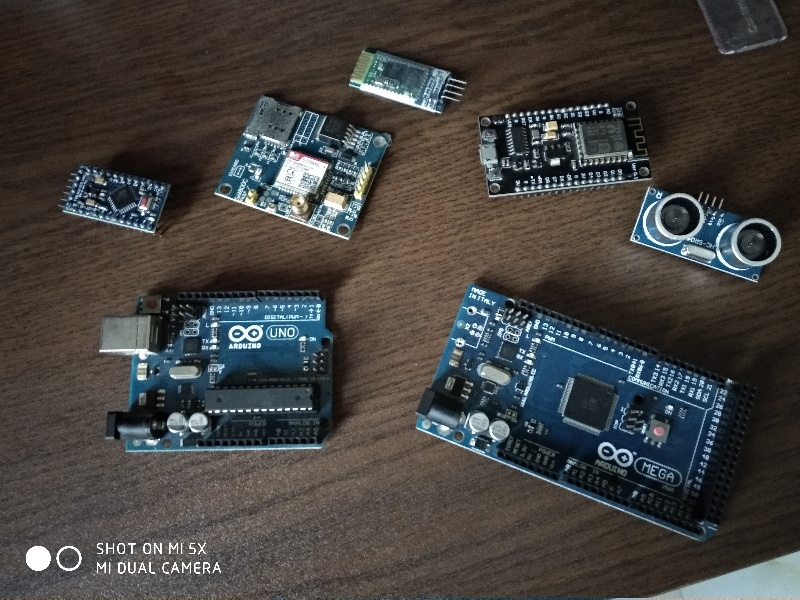Arduino Mega 2560: (400, 277, 752, 555)
Arduino Pro Mini: (59, 160, 177, 240)
Arduino UNO: (92, 283, 349, 462)
HC-05: (348, 41, 463, 117)
NodeMCU: (472, 98, 657, 202)
SIM800: (207, 86, 397, 247)
Sonar Sensor: (626, 182, 781, 288)
